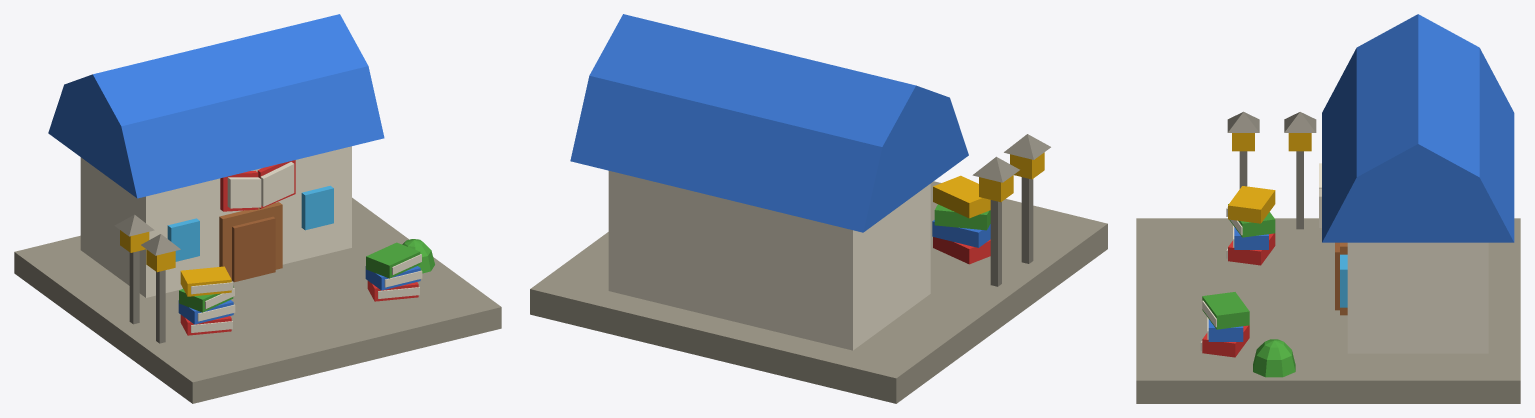
File: library_t1_v3.glb
The picture shows the model from 3 angles, left to right: view 1: azimuth 30°, elevation 25°; view 2: azimuth 150°, elevation 25°; view 3: azimuth 270°, elevation 25°; orthographic projection. The views are drawn at different scales.
Visible parts, largest first — view 1: library_t1_v3; view 2: library_t1_v3; view 3: library_t1_v3.
Part boxes in pixels (<box>): library_t1_v3: <box>14,14,501,403</box>; library_t1_v3: <box>530,14,1107,403</box>; library_t1_v3: <box>1136,14,1520,403</box>.
Bounding box in the file's own units: 0.6 × 0.42 × 0.6.
Materials: 1 (1 with a texture image).
